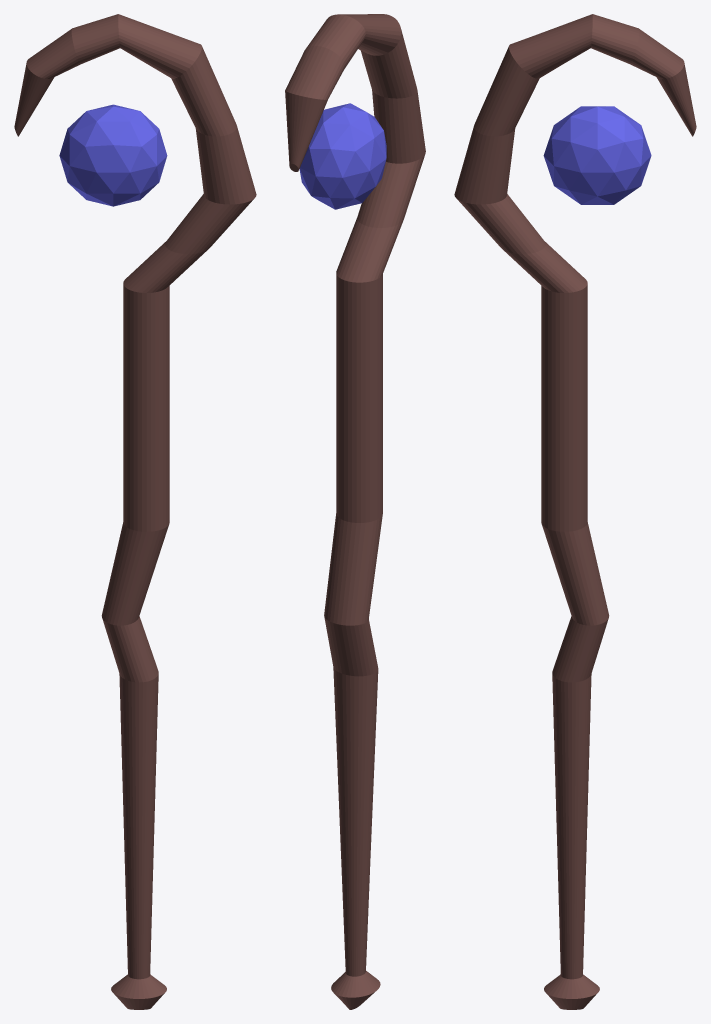
The model's file is wizardStaff.fbx.
3 views of the same model, side by side, from view 1: azimuth 90°, elevation 25°; view 2: azimuth 150°, elevation 25°; view 3: azimuth 270°, elevation 25° (orthographic).
Visible parts, largest first — view 1: Cylinder, Icosphere; view 2: Cylinder, Icosphere; view 3: Cylinder, Icosphere.
Boxes of the visible parts, left/top/right/bottom form: Cylinder: left=14, top=14, right=256, bottom=1009; Icosphere: left=59, top=104, right=167, bottom=206; Cylinder: left=285, top=14, right=425, bottom=1009; Icosphere: left=299, top=103, right=386, bottom=209; Cylinder: left=454, top=14, right=696, bottom=1009; Icosphere: left=543, top=106, right=651, bottom=204.
Bounding box in the file's own units: 102 × 1387 × 307.
